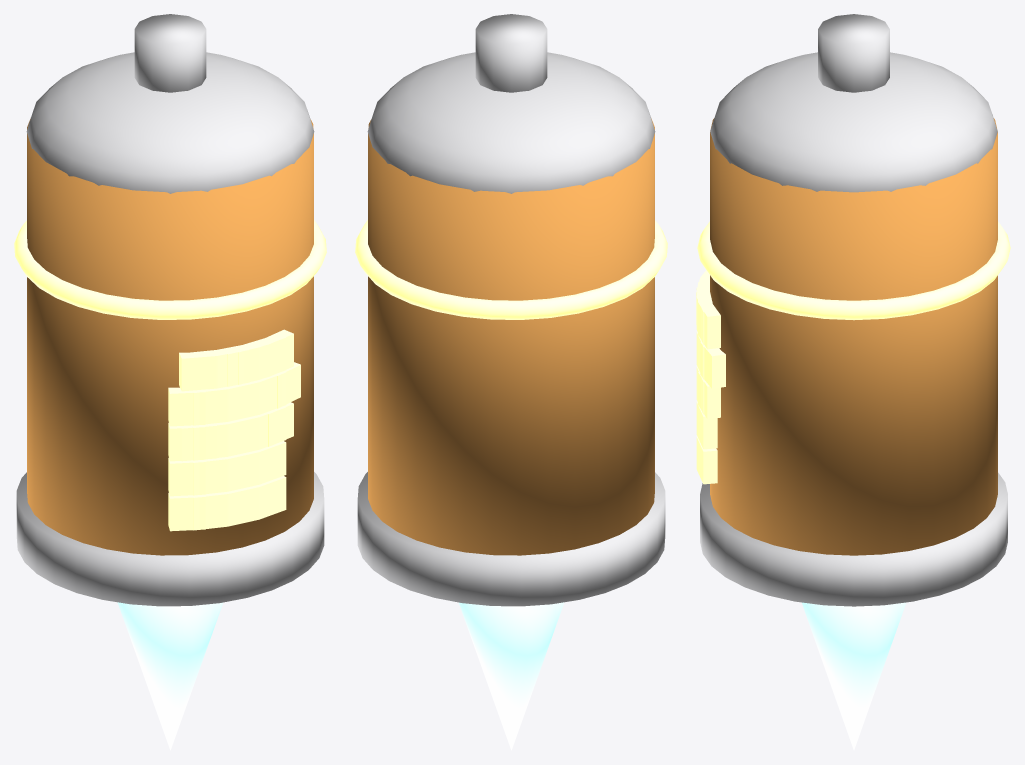
Rendered from G14_ATP_Booster.glb.
3 renders of one model, left to right at view 1: azimuth 30°, elevation 25°; view 2: azimuth 150°, elevation 25°; view 3: azimuth 270°, elevation 25°, orthographic.
Visible parts, largest first — view 1: G14_ATP_Booster_Mesh; view 2: G14_ATP_Booster_Mesh; view 3: G14_ATP_Booster_Mesh.
Boxes of the visible parts, x1=… form: G14_ATP_Booster_Mesh: x1=14, y1=14, x2=326, y2=750; G14_ATP_Booster_Mesh: x1=355, y1=14, x2=667, y2=750; G14_ATP_Booster_Mesh: x1=696, y1=14, x2=1010, y2=750.
Bounding box in the file's own units: 0.61 × 1.55 × 0.612.
